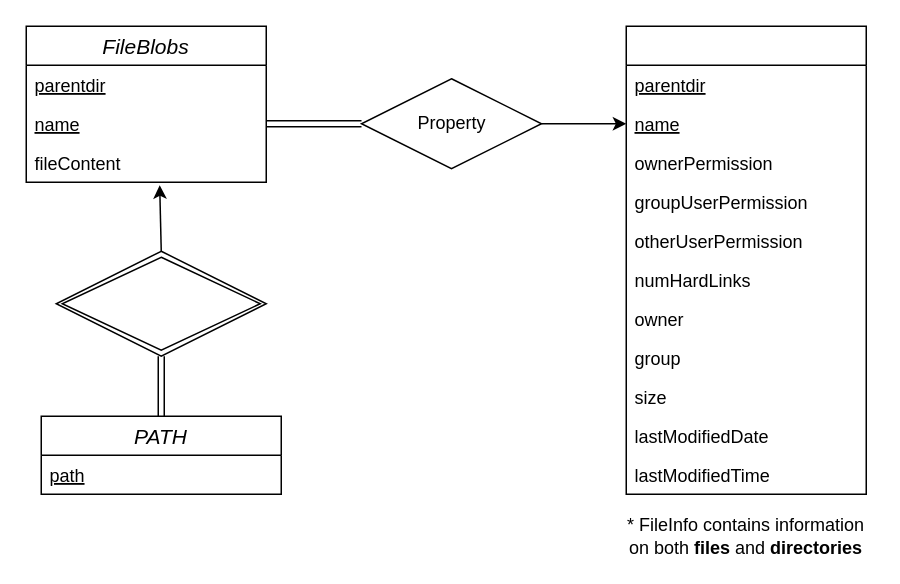
The diagram is 900 pixels wide and 584 high, and some of its shapes have lost their labels. The shapes that lost their labels are listed below. From the top down, each one's box as (x1, y1, x2, y2) in pixels, then its label:
(625, 25, 866, 494): FileInfo
(55, 250, 266, 356): PATH variable reference
